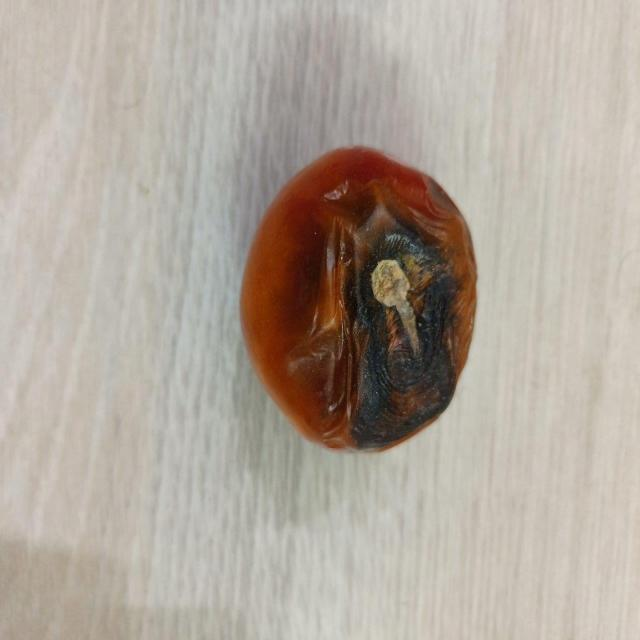Rotten: (242, 147, 476, 456)
